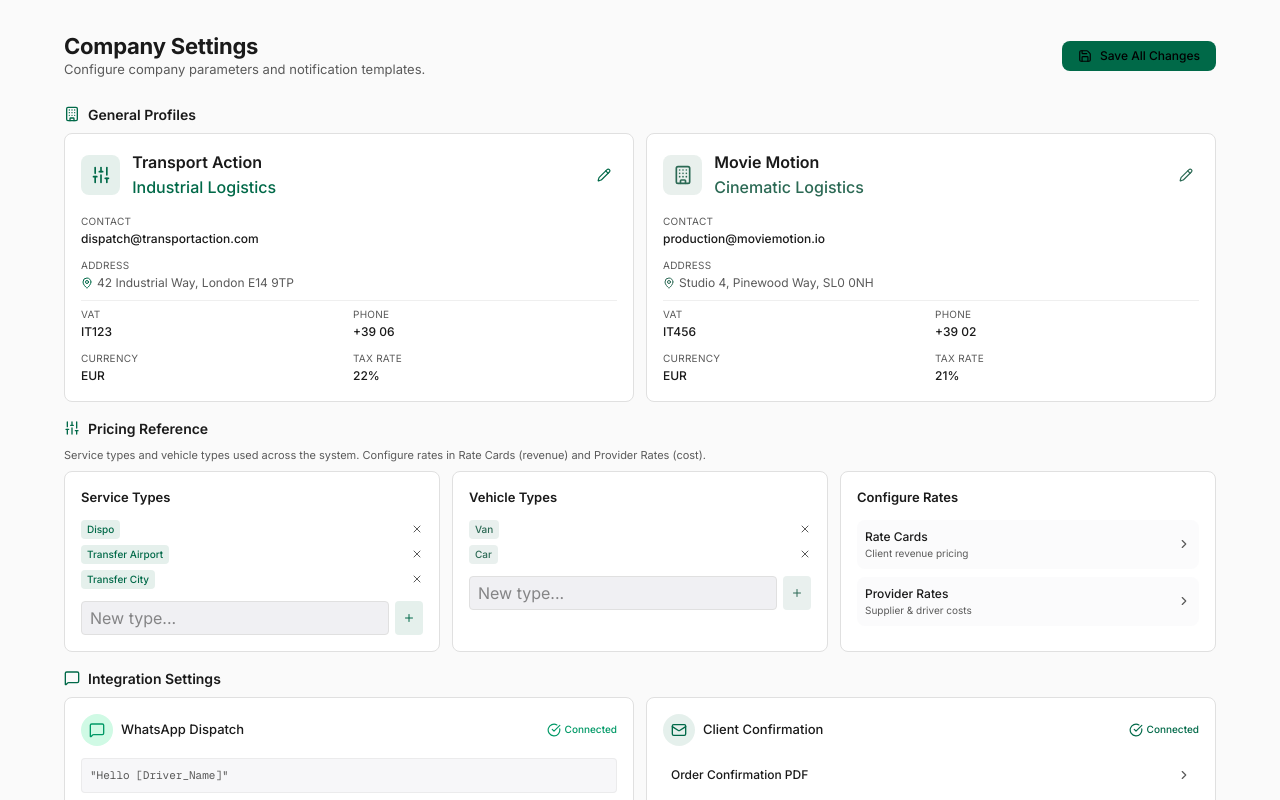
Test: CompanySettingsScreen › TA edit button opens company edit modal
The width and height of the screenshot is (1280, 800).
Check: the button "Save All Changes" is shown, box [1062,41,1216,71]
Click the button with id "edit-profile-ta-btn". click: (604, 174)
box: [591,162,617,188]
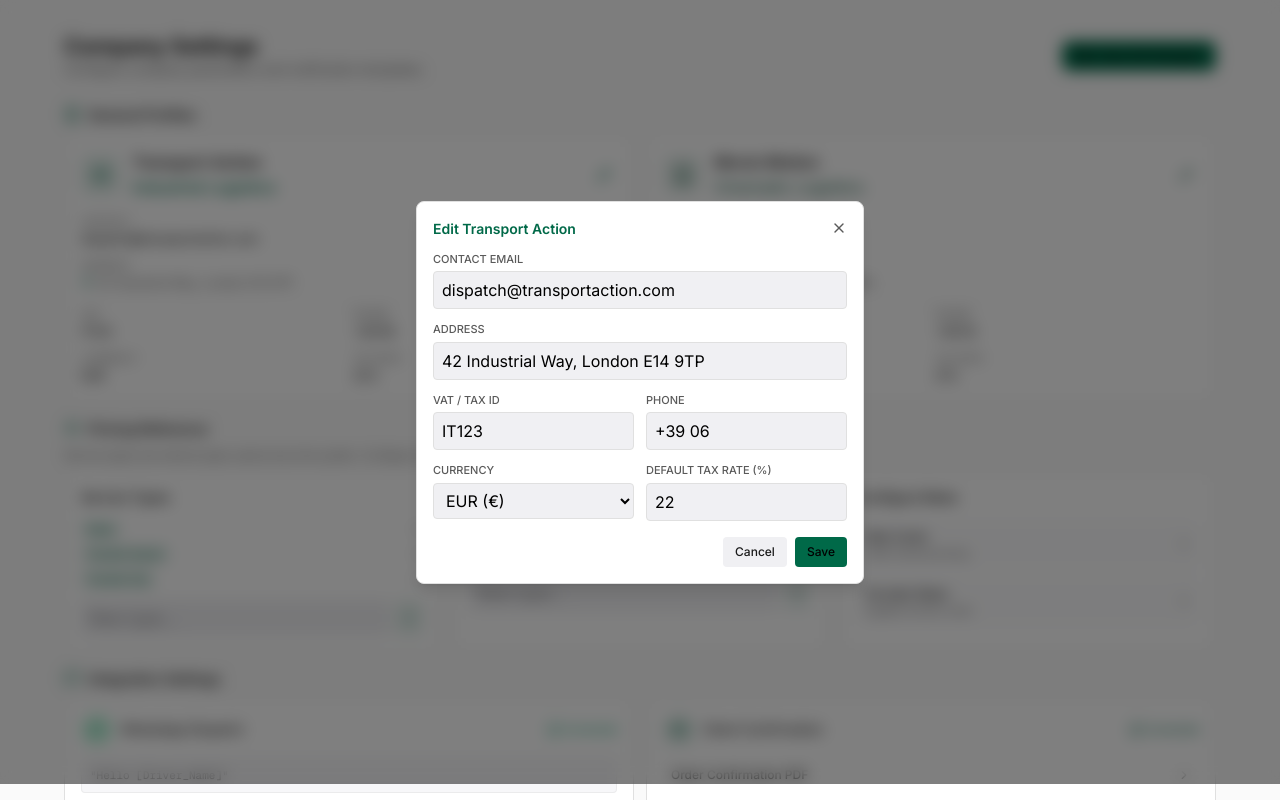
Check: the heading "Edit Transport Action" is shown, box [433,218,576,238]
